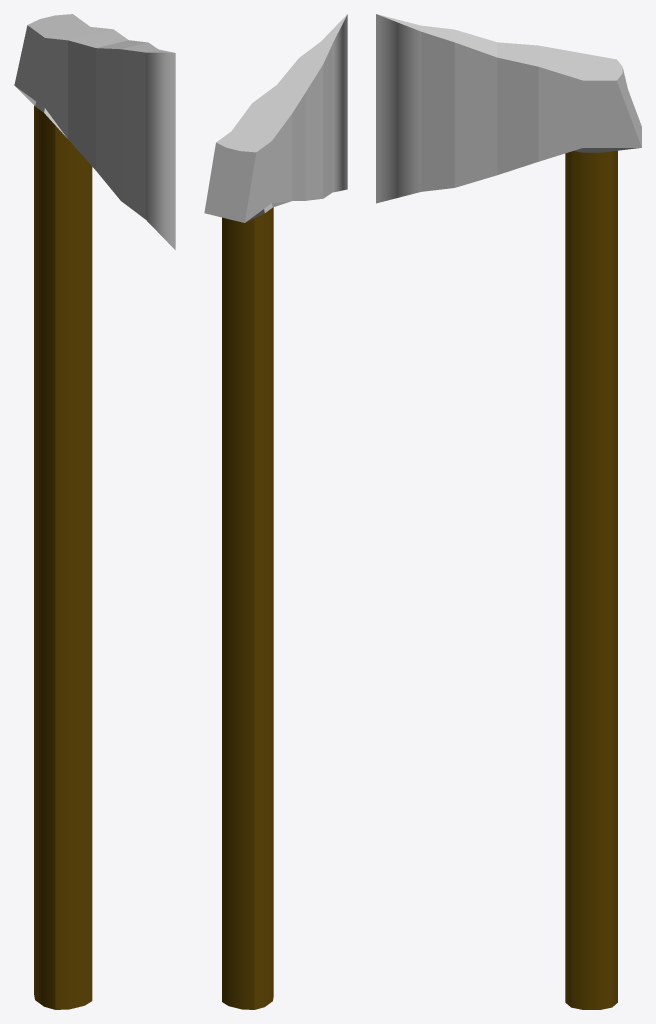
File: TwoHandedAxe.fbx
3 renders of one model, left to right at view 1: azimuth 30°, elevation 25°; view 2: azimuth 150°, elevation 25°; view 3: azimuth 270°, elevation 25°, orthographic. The views are drawn at different scales.
Visible parts, largest first — view 1: Axe; view 2: Axe; view 3: Axe.
Boxes of the visible parts, x1,y1,x2,y2 form: Axe: (14,14,175,1009); Axe: (204,14,347,1009); Axe: (376,14,641,1009).
Size of the model in its own units: 22.11 by 458 by 112.
